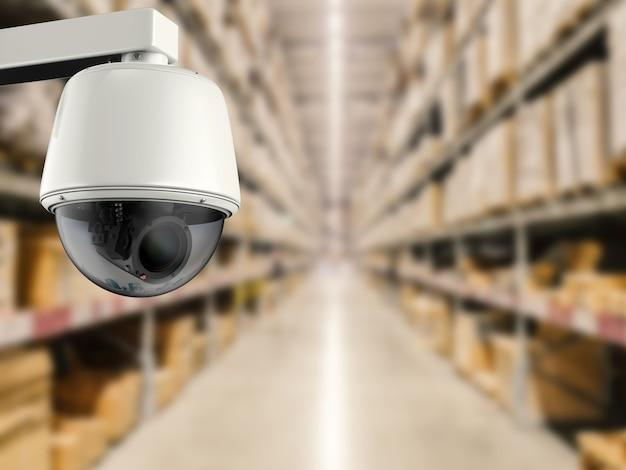camera: (33, 1, 253, 308)
